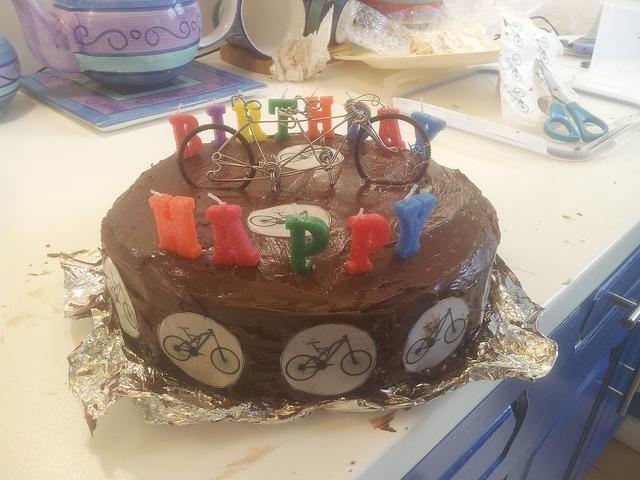bicycle: (178, 93, 418, 194)
